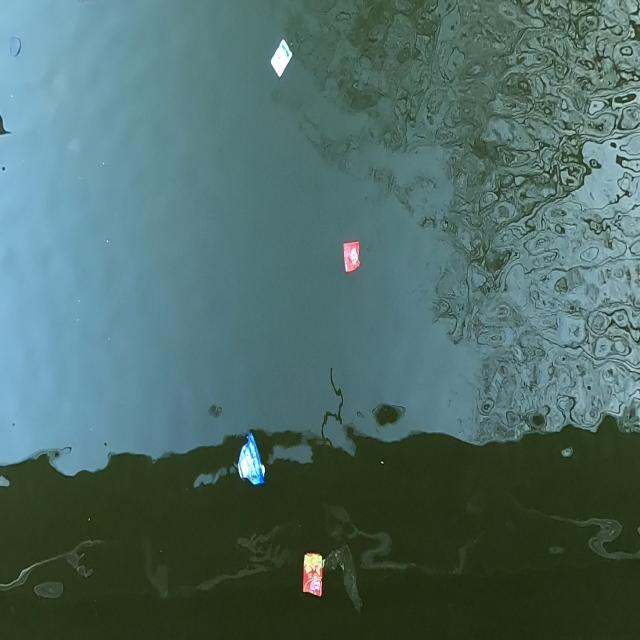Autre plastique: (234, 430, 270, 492), (299, 546, 327, 606), (337, 236, 367, 279), (268, 35, 296, 81)
